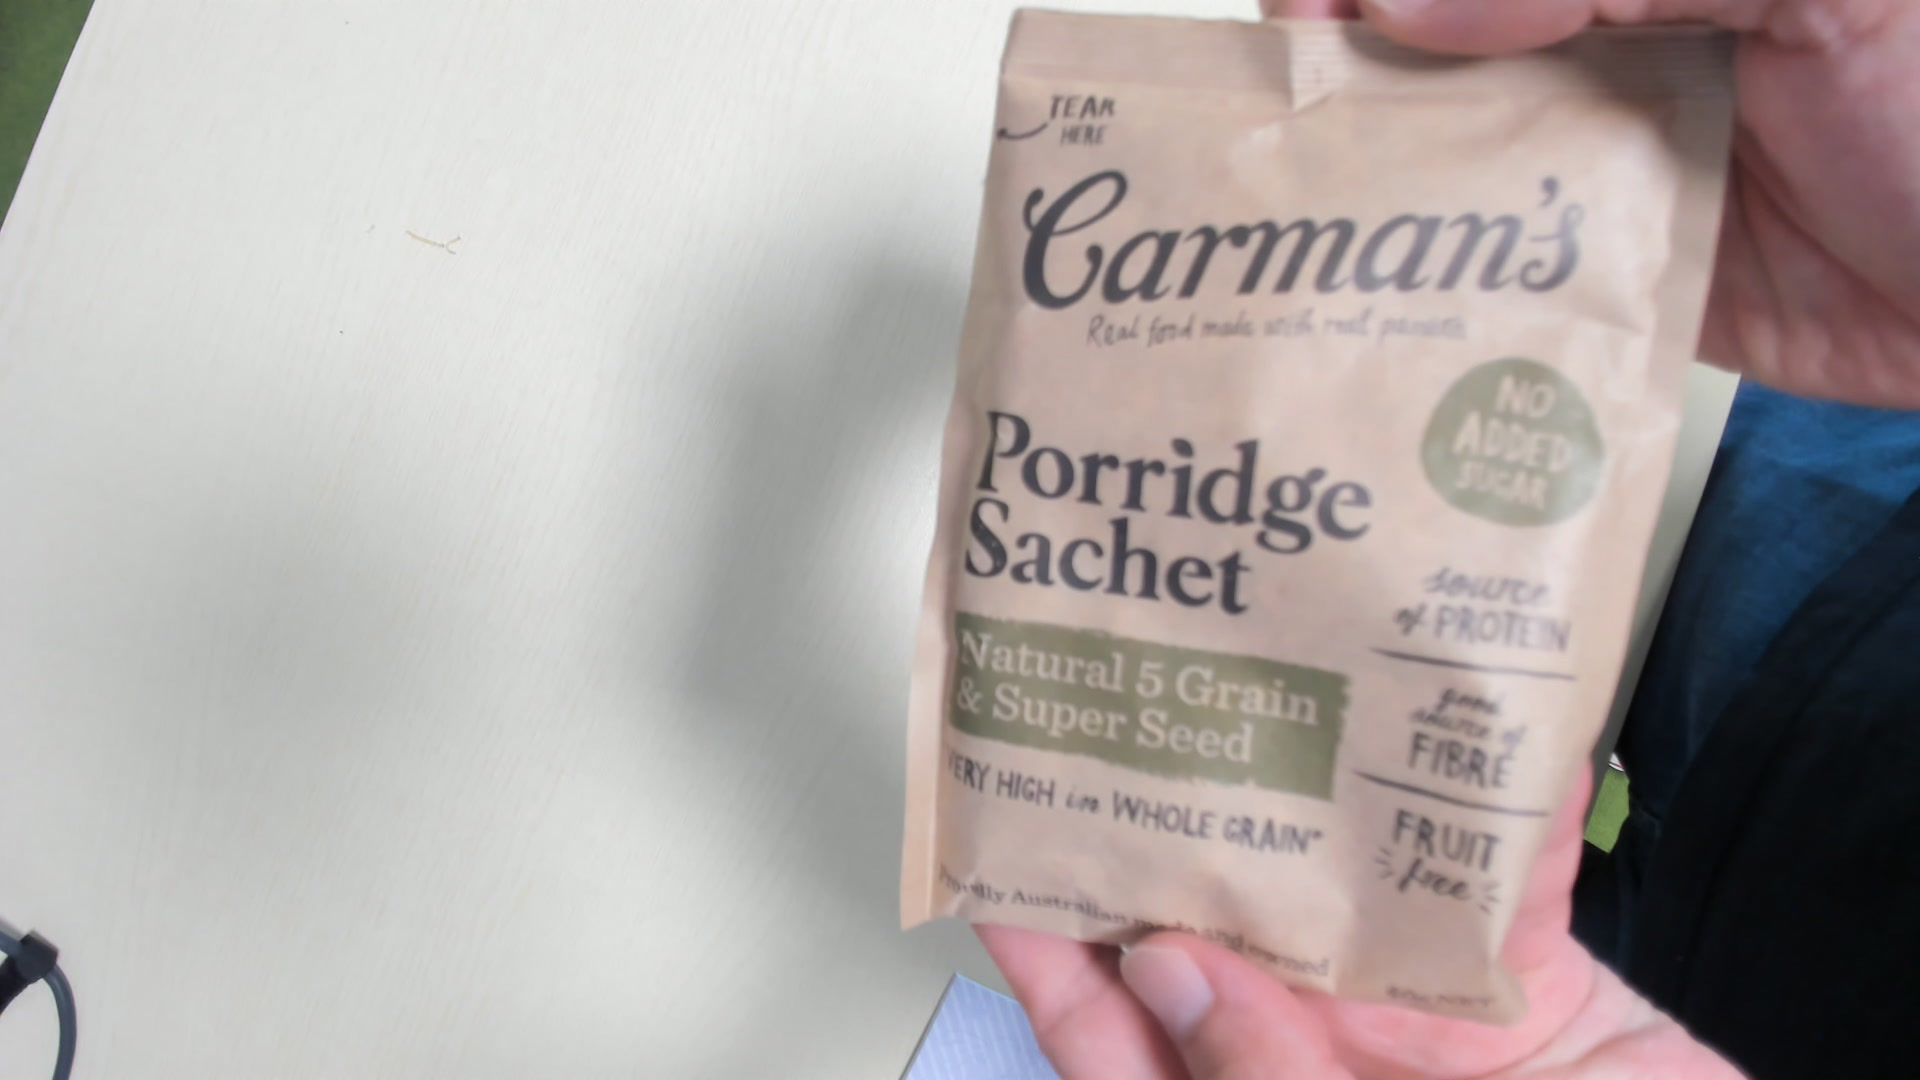InstantMeals_0-99g_NonHalal_NonHealthy: (924, 11, 1733, 1036)
